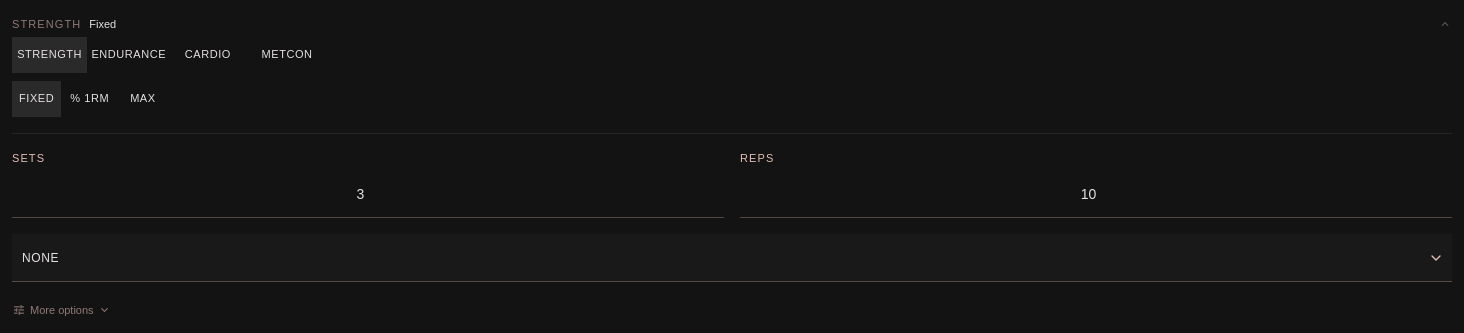
Test case: SetSchemeEditor › renders active group type buttons and group selector
This screenshot has width=1464, height=333.
Note: Switch to ENDURANCE group to see its types
Click the radio button "ENDURANCE" at (129, 54), box [91,36,166,72]
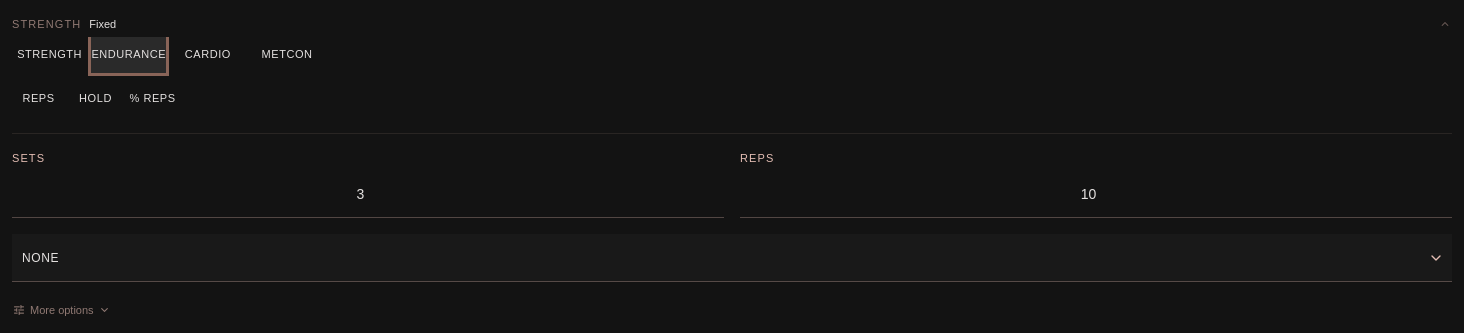
Expected: the radio button "Reps" is shown, [12,80,65,116]
Expected: the radio button "Hold" is shown, [69,80,122,116]
Expected: the radio button "% Reps" is shown, [126,80,179,116]
